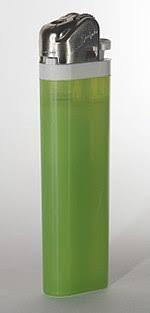lighter: (40, 11, 112, 296)
